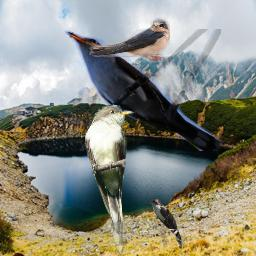Cuckoo: (64, 29, 221, 151), (85, 104, 134, 256), (149, 199, 185, 247)
Swallow: (89, 18, 170, 62)
